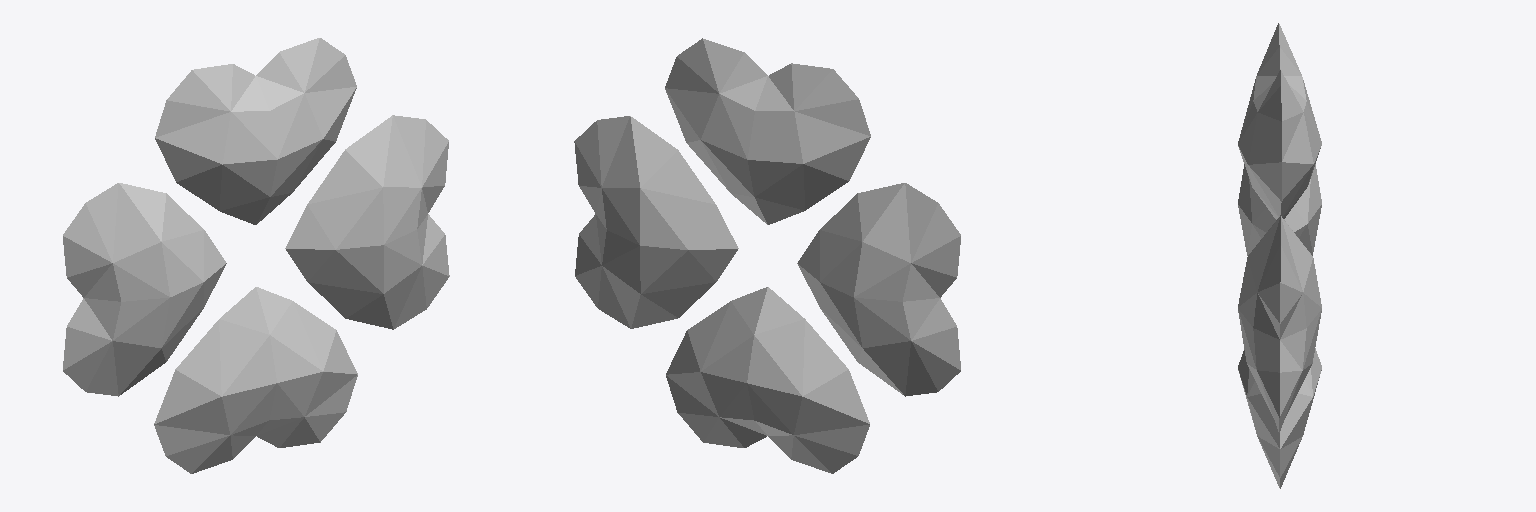
File: heart.obj
3 views of the same model, side by side, from view 1: azimuth 30°, elevation 25°; view 2: azimuth 150°, elevation 25°; view 3: azimuth 270°, elevation 25° (orthographic).
Visible parts, largest first — view 1: Plane.002_Plane.007, Plane.001_Plane.006, Plane.000_Plane.005, Plane.004_Plane.011; view 2: Plane.004_Plane.011, Plane.000_Plane.005, Plane.001_Plane.006, Plane.002_Plane.007; view 3: Plane.002_Plane.007, Plane.004_Plane.011, Plane.000_Plane.005, Plane.001_Plane.006.
Part boxes in pixels (x1,y1,x2,y2): Plane.002_Plane.007: (285, 115, 449, 329); Plane.001_Plane.006: (63, 183, 226, 396); Plane.000_Plane.005: (154, 287, 357, 473); Plane.004_Plane.011: (155, 38, 356, 224); Plane.004_Plane.011: (665, 38, 870, 224); Plane.000_Plane.005: (666, 287, 869, 473); Plane.001_Plane.006: (797, 183, 960, 396); Plane.002_Plane.007: (574, 116, 738, 328); Plane.002_Plane.007: (1238, 215, 1321, 432); Plane.004_Plane.011: (1238, 23, 1321, 219); Plane.000_Plane.005: (1238, 348, 1321, 488); Plane.001_Plane.006: (1238, 164, 1321, 255).
Size of the model in its own units: 3.06 by 3.06 by 0.5792.